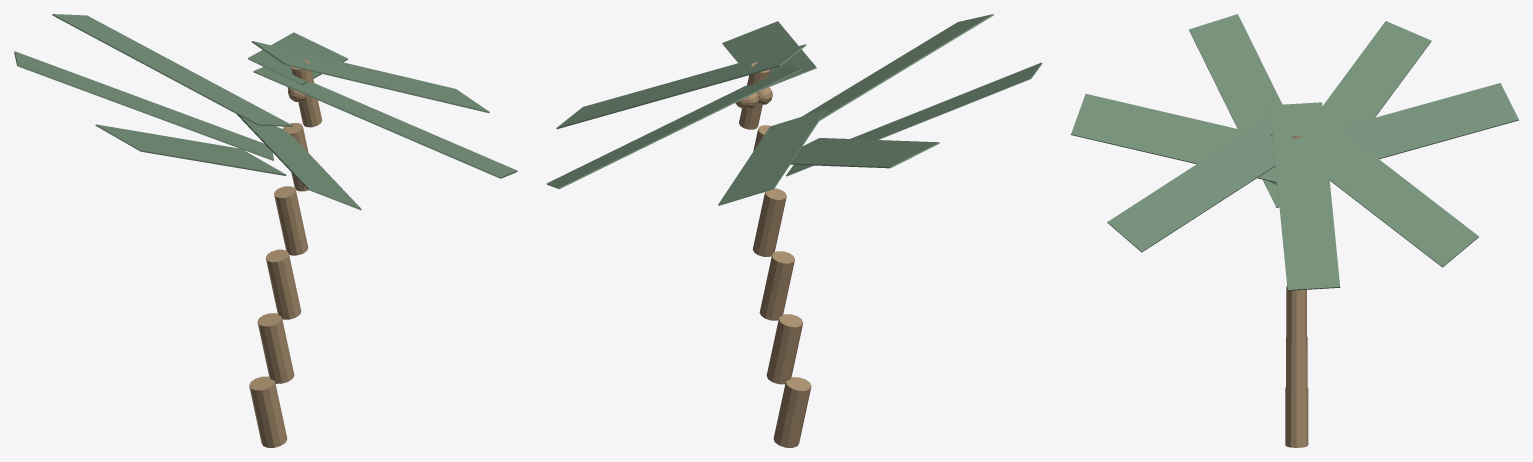
The model's file is mdl_vegetation_palm_coconut_001.glb.
3 renders of one model, left to right at view 1: azimuth 30°, elevation 25°; view 2: azimuth 150°, elevation 25°; view 3: azimuth 270°, elevation 25°, orthographic. The views are drawn at different scales.
Parts seen in each view (by area): view 1: m_manigua, m_madera; view 2: m_manigua, m_madera; view 3: m_manigua, m_madera.
Part boxes in pixels (<box>): m_manigua: <box>14,14,517,210</box>; m_madera: <box>249,59,322,447</box>; m_manigua: <box>546,14,1042,205</box>; m_madera: <box>735,62,811,447</box>; m_manigua: <box>1071,14,1518,290</box>; m_madera: <box>1285,136,1308,447</box>.
Size of the model in its own units: 6.67 by 5.96 by 7.04.
